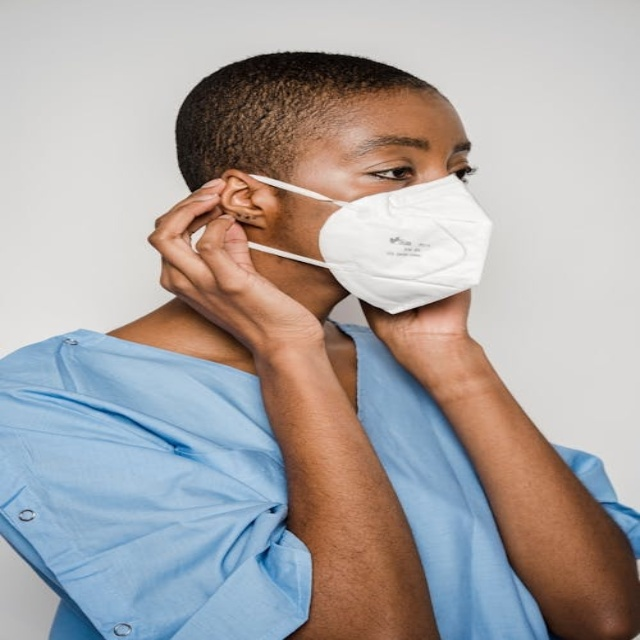Mascara: (194, 170, 493, 312)
Sin_gafas: (347, 147, 484, 189)
Sin_guantes: (136, 177, 325, 345)
